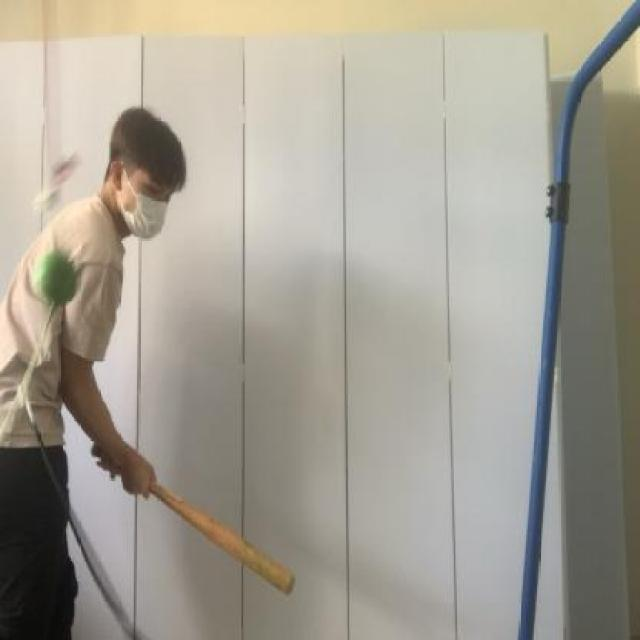baseball: (33, 242, 78, 309)
